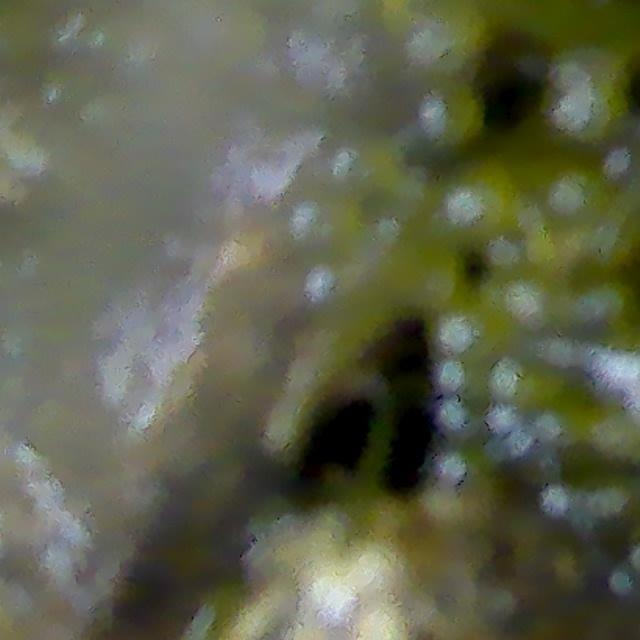SeaGrape: (435, 299, 495, 354), (486, 361, 540, 402), (435, 358, 476, 396)
